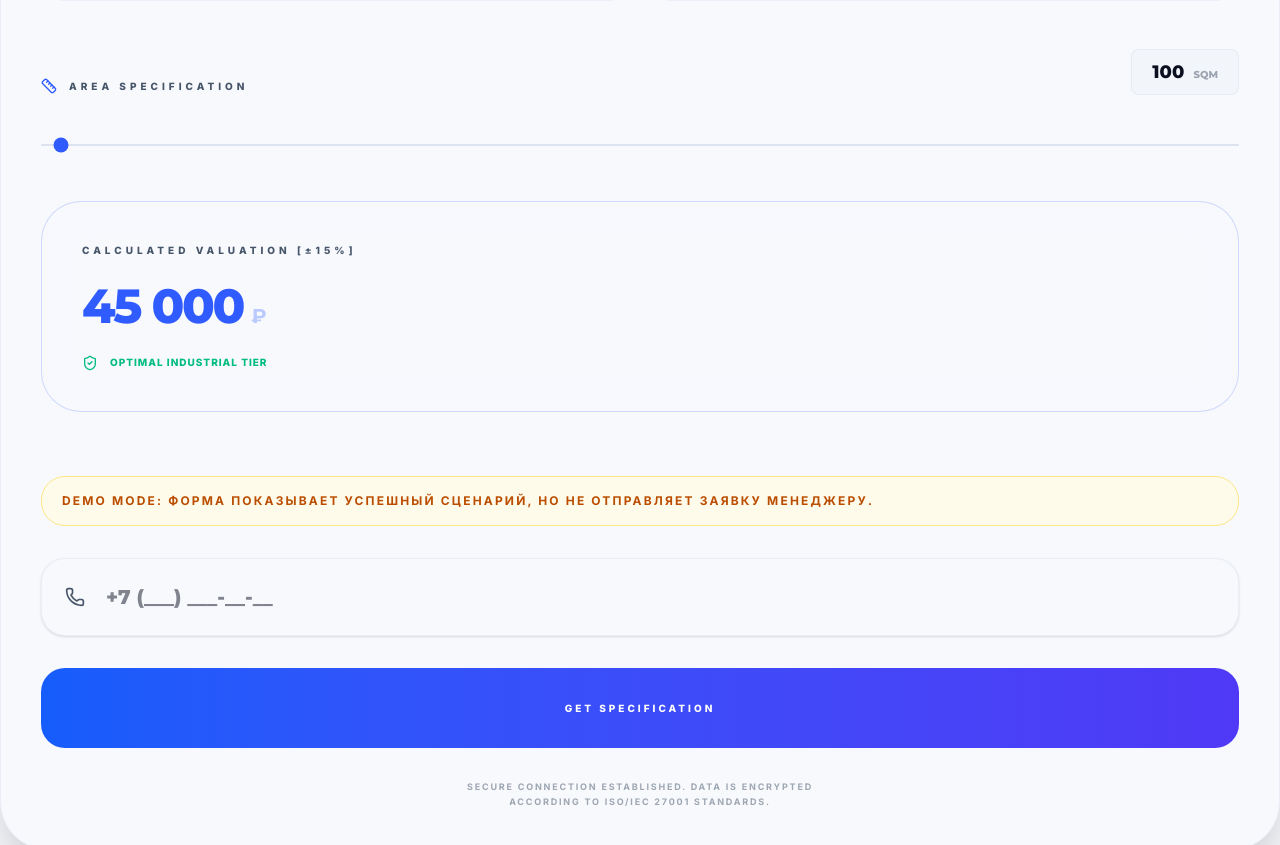
CalculatorForm › shows network error on fetch failure
(page scrolled)
Type "+7 (999) 123-45-67" into the field with placeholder "+7 (___) ___-__-__" at [640, 597], box top-left (41, 558), bottom-right (1239, 636)
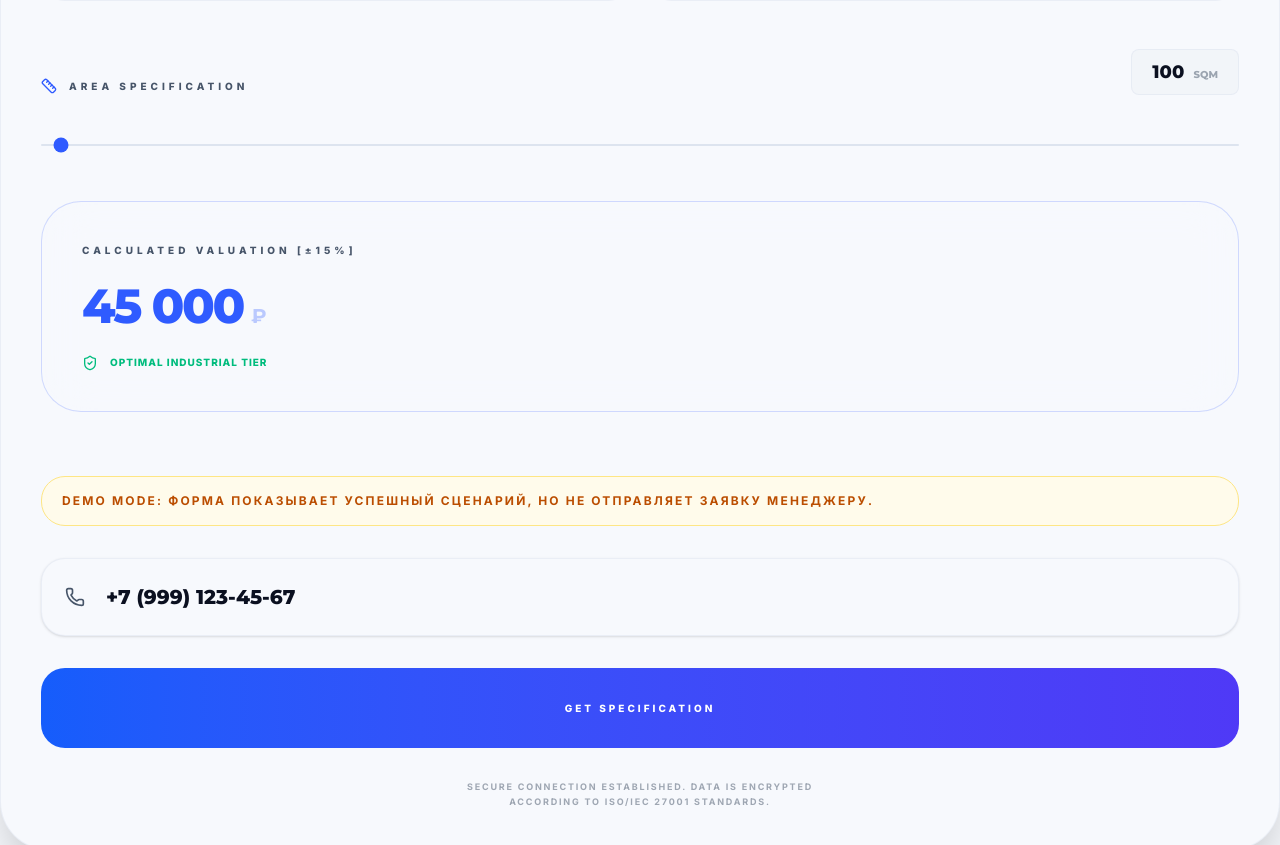
Click the button "GET SPECIFICATION" at [640, 708], box top-left (41, 668), bottom-right (1239, 748)
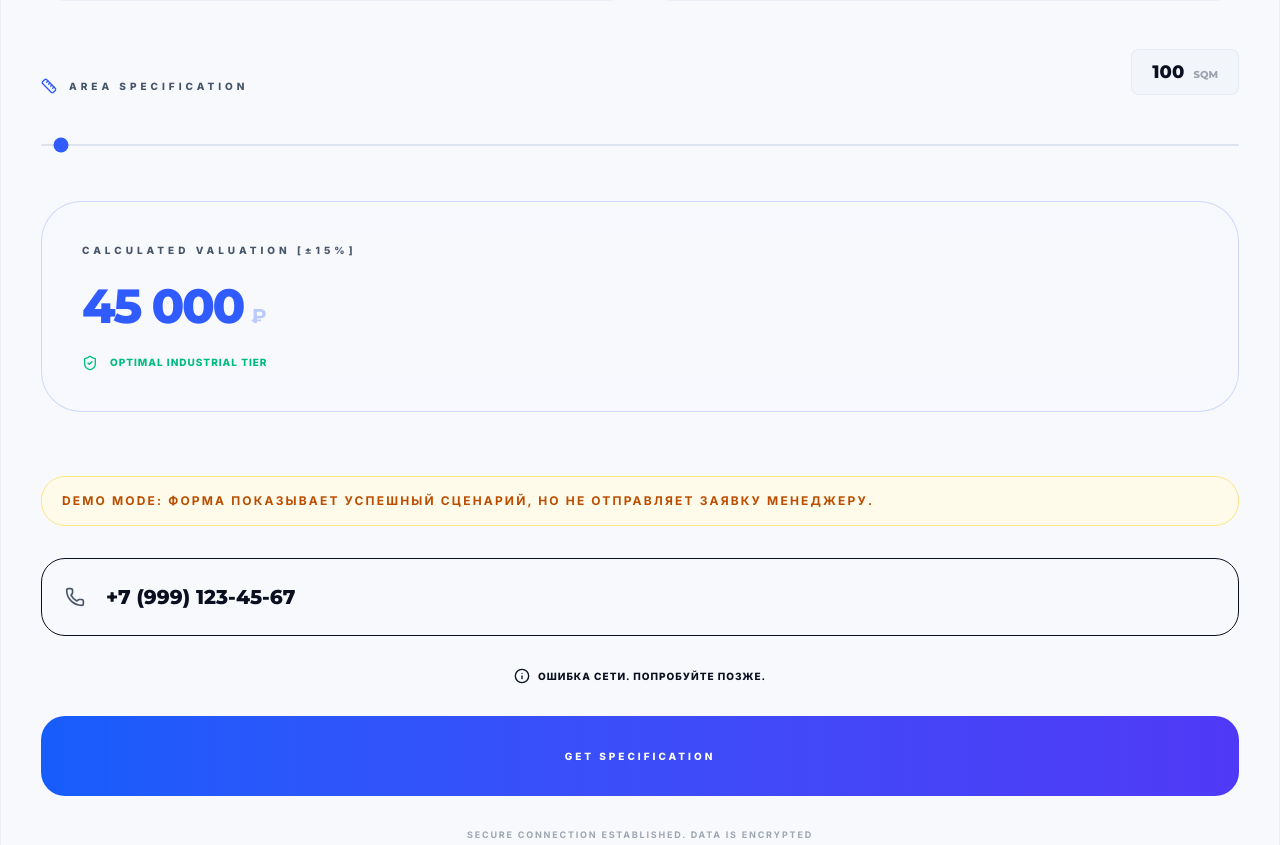
Expected: the message reads "Ошибка сети. Попробуйте позже.", top-left (538, 670), bottom-right (766, 682)
